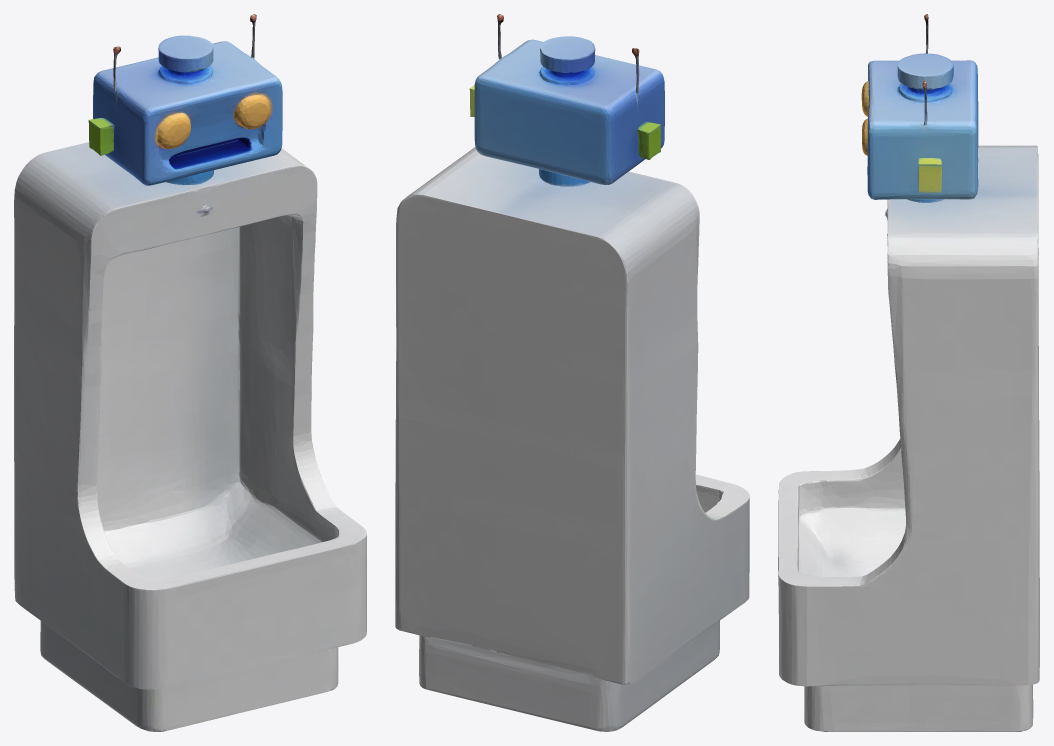
Rendered from 79c77fdf-62ac-458f-be16-669678a0147f.glb.
The picture shows the model from 3 angles, left to right: view 1: azimuth 30°, elevation 25°; view 2: azimuth 150°, elevation 25°; view 3: azimuth 270°, elevation 25°; orthographic projection.
Parts seen in each view (by area): view 1: world; view 2: world; view 3: world.
Boxes of the visible parts, x1,y1,x2,y2 form: world: [14, 14, 366, 731]; world: [395, 14, 749, 731]; world: [778, 14, 1039, 731].
Bounding box in the file's own units: 0.3897 × 1 × 0.3737.
1 material, 1 textured.
